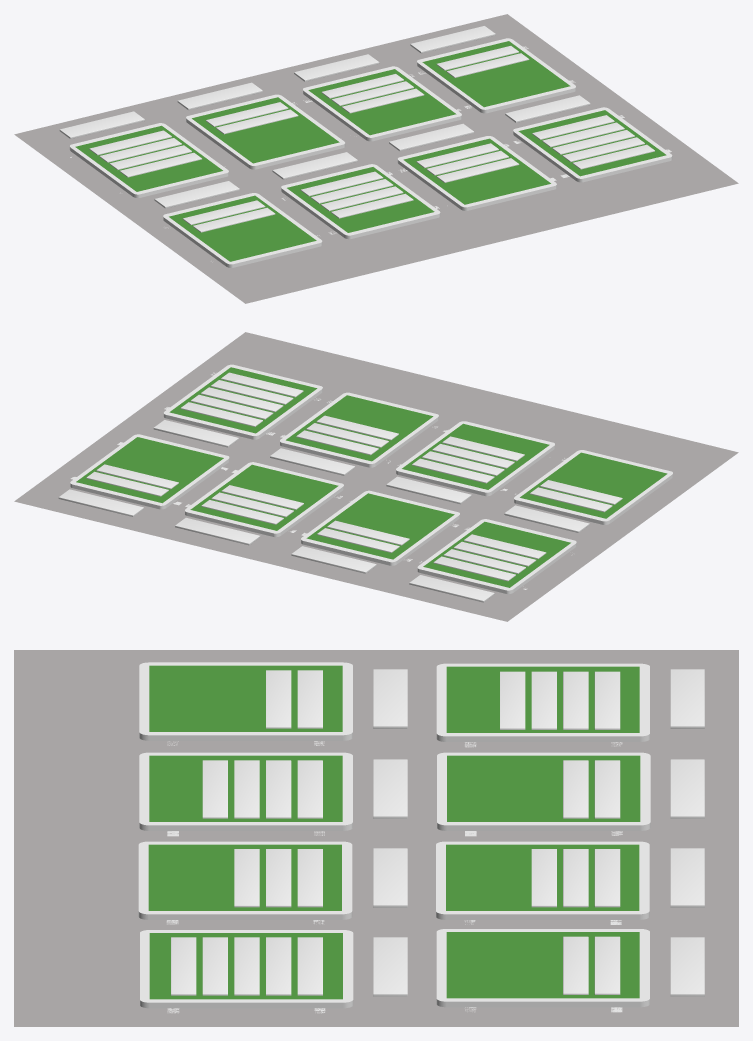
The model's file is board-1.glb.
The picture shows the model from 3 angles, top to bottom: view 1: azimuth 30°, elevation 25°; view 2: azimuth 150°, elevation 25°; view 3: azimuth 270°, elevation 25°; orthographic projection. The views are drawn at different scales.
Parts seen in each view (by area): view 1: Plane, Plane.011, Plane.009, Plane.001, Plane.013, Plane.015, Plane.003, Plane.008, Plane.005, Cube.020, Cube.036, Cube.004 (+30 smaller); view 2: Plane, Plane.009, Plane.011, Plane.001, Plane.013, Plane.015, Plane.008, Plane.003, Plane.005, Cube.020, Cube.004, Cube.019 (+30 smaller); view 3: Plane, Plane.001, Plane.011, Plane.009, Plane.015, Plane.013, Plane.003, Plane.008, Plane.005, Cube.004, Cube.015, Cube.016 (+30 smaller).
Boxes of the visible parts, x1=… form: Plane: x1=14, y1=14, x2=738, y2=303; Plane.011: x1=186, y1=94, x2=345, y2=169; Plane.009: x1=417, y1=38, x2=575, y2=113; Plane.001: x1=163, y1=193, x2=322, y2=267; Plane.013: x1=303, y1=66, x2=461, y2=141; Plane.015: x1=397, y1=136, x2=556, y2=210; Plane.003: x1=281, y1=164, x2=440, y2=239; Plane.008: x1=69, y1=123, x2=228, y2=197; Plane.005: x1=513, y1=107, x2=672, y2=182; Cube.020: x1=272, y1=152, x2=357, y2=179; Cube.036: x1=294, y1=54, x2=379, y2=81; Cube.004: x1=154, y1=181, x2=239, y2=208; Plane: x1=14, y1=332, x2=738, y2=621; Plane.009: x1=70, y1=434, x2=229, y2=509; Plane.011: x1=301, y1=490, x2=459, y2=565; Plane.001: x1=514, y1=450, x2=672, y2=524; Plane.013: x1=185, y1=462, x2=343, y2=537; Plane.015: x1=280, y1=392, x2=438, y2=467; Plane.008: x1=417, y1=519, x2=576, y2=594; Plane.003: x1=396, y1=421, x2=554, y2=496; Plane.005: x1=163, y1=364, x2=322, y2=439; Cube.020: x1=386, y1=476, x2=471, y2=504; Cube.004: x1=504, y1=505, x2=589, y2=532; Cube.019: x1=291, y1=546, x2=376, y2=573; Plane: x1=14, y1=650, x2=738, y2=1026; Plane.001: x1=139, y1=662, x2=352, y2=740; Plane.011: x1=437, y1=752, x2=650, y2=830; Plane.009: x1=436, y1=929, x2=649, y2=1007; Plane.015: x1=138, y1=841, x2=352, y2=919; Plane.013: x1=436, y1=841, x2=649, y2=919; Plane.003: x1=139, y1=752, x2=352, y2=830; Plane.008: x1=436, y1=663, x2=649, y2=741; Plane.005: x1=140, y1=930, x2=353, y2=1008; Cube.004: x1=373, y1=669, x2=407, y2=728; Cube.015: x1=670, y1=669, x2=704, y2=728; Cube.016: x1=373, y1=937, x2=407, y2=996.
Size of the model in its own units: 14.1 by 0.1248 by 11.46.
